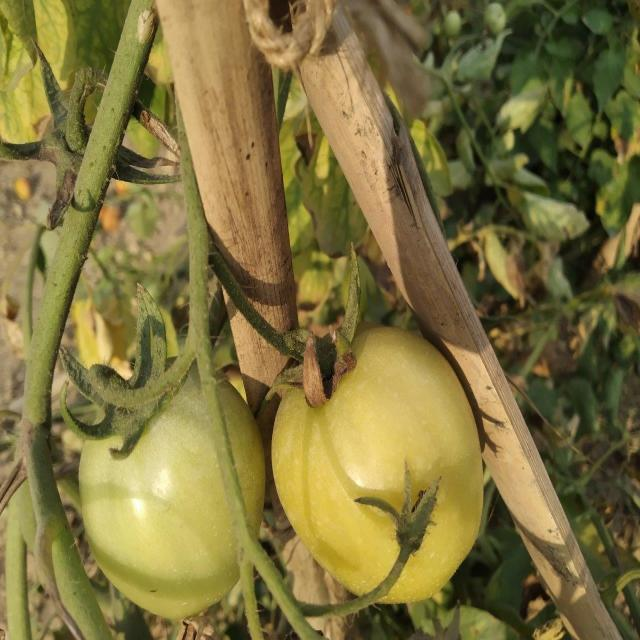Unripe: (270, 320, 484, 601), (78, 362, 265, 618)
